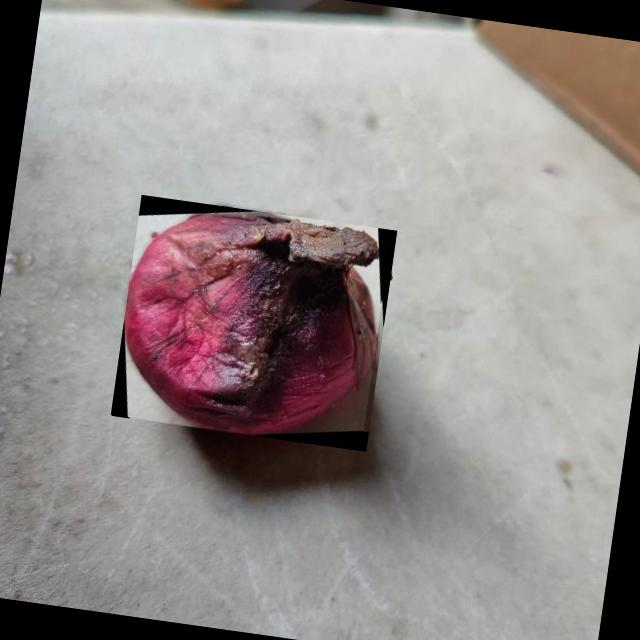rotten: (126, 212, 380, 435)
